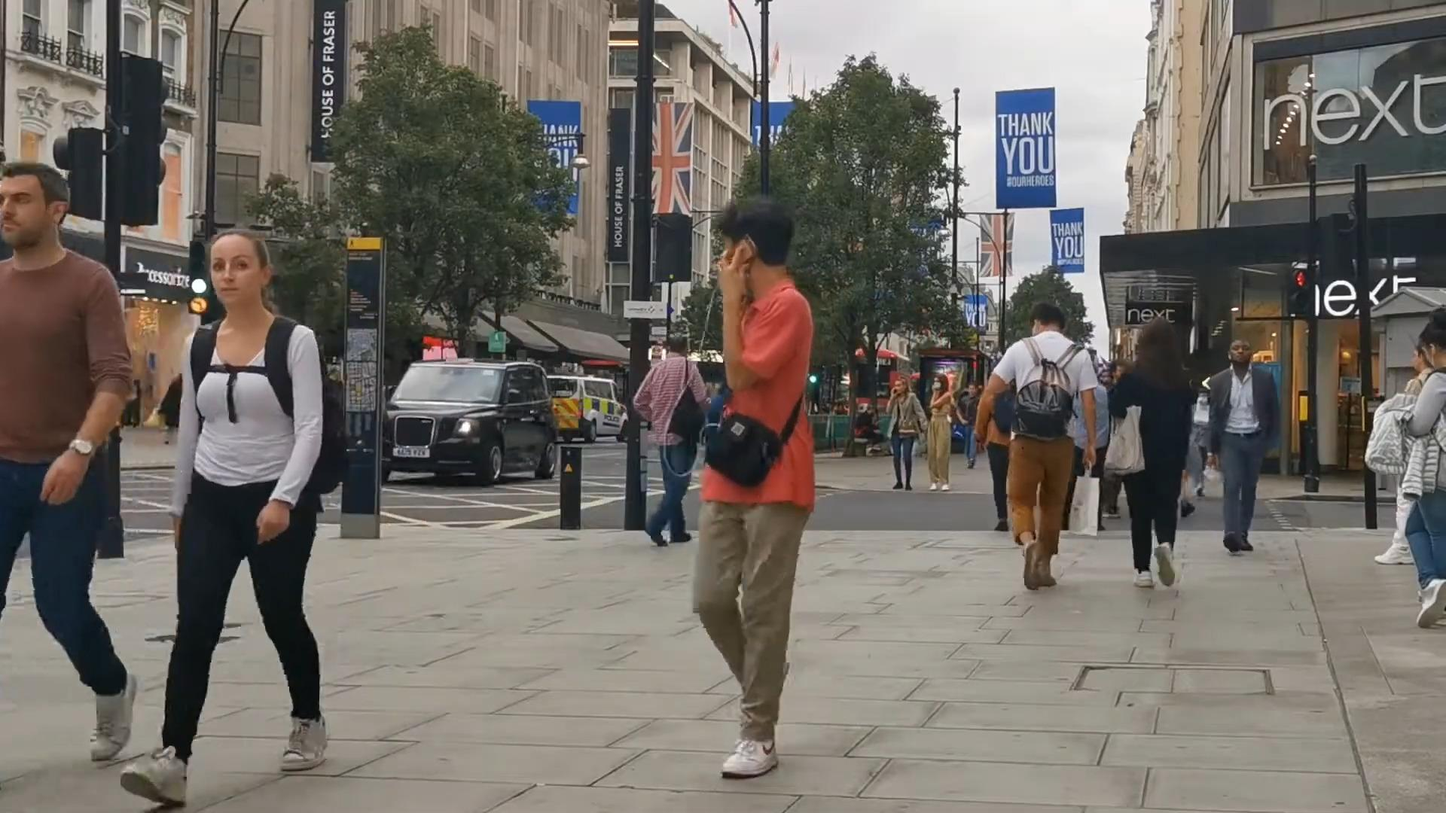no-helmet: (0, 161, 70, 250), (718, 194, 795, 266), (205, 228, 274, 307), (1137, 316, 1183, 370), (1418, 307, 1446, 370), (1030, 302, 1066, 337), (1227, 339, 1254, 365), (670, 334, 688, 358), (894, 375, 911, 395), (934, 373, 948, 392)
